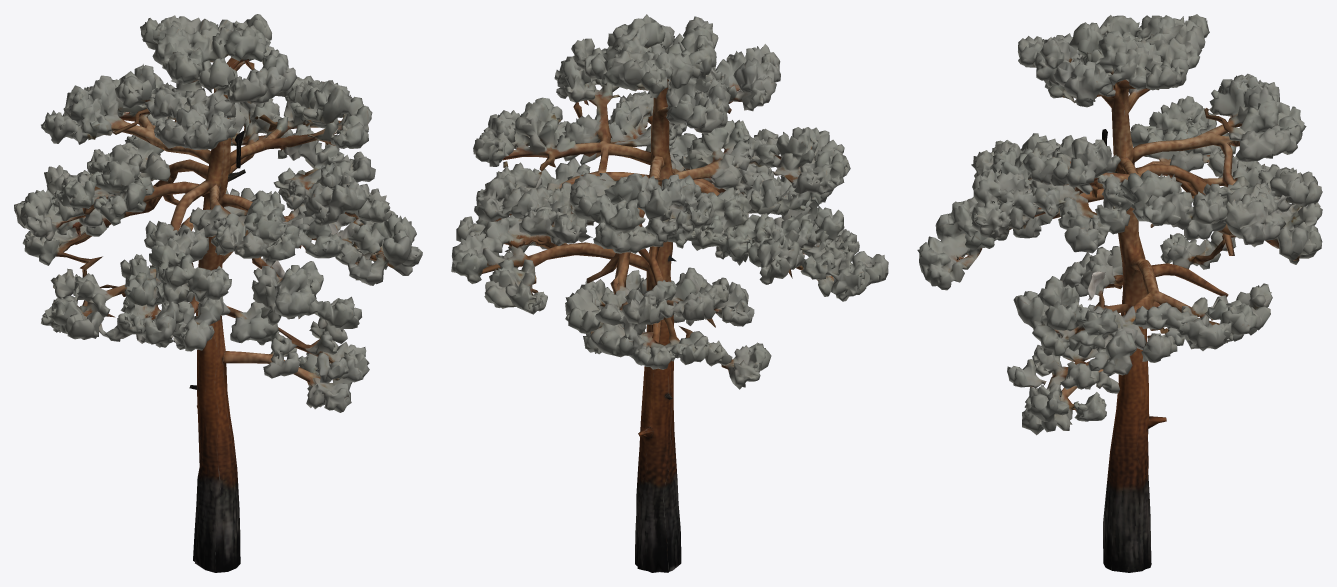
Rendered from tree_18_scots_pine.glb.
3 views of the same model, side by side, from view 1: azimuth 30°, elevation 25°; view 2: azimuth 150°, elevation 25°; view 3: azimuth 270°, elevation 25° (orthographic).
Parts seen in each view (by area): view 1: world; view 2: world; view 3: world.
Part boxes in pixels (<box>): world: <box>14,14,422,572</box>; world: <box>451,14,888,572</box>; world: <box>917,14,1322,572</box>.
Bounding box in the file's own units: 0.7306 × 0.9991 × 0.6781.
Materials: 1 (1 with a texture image).
